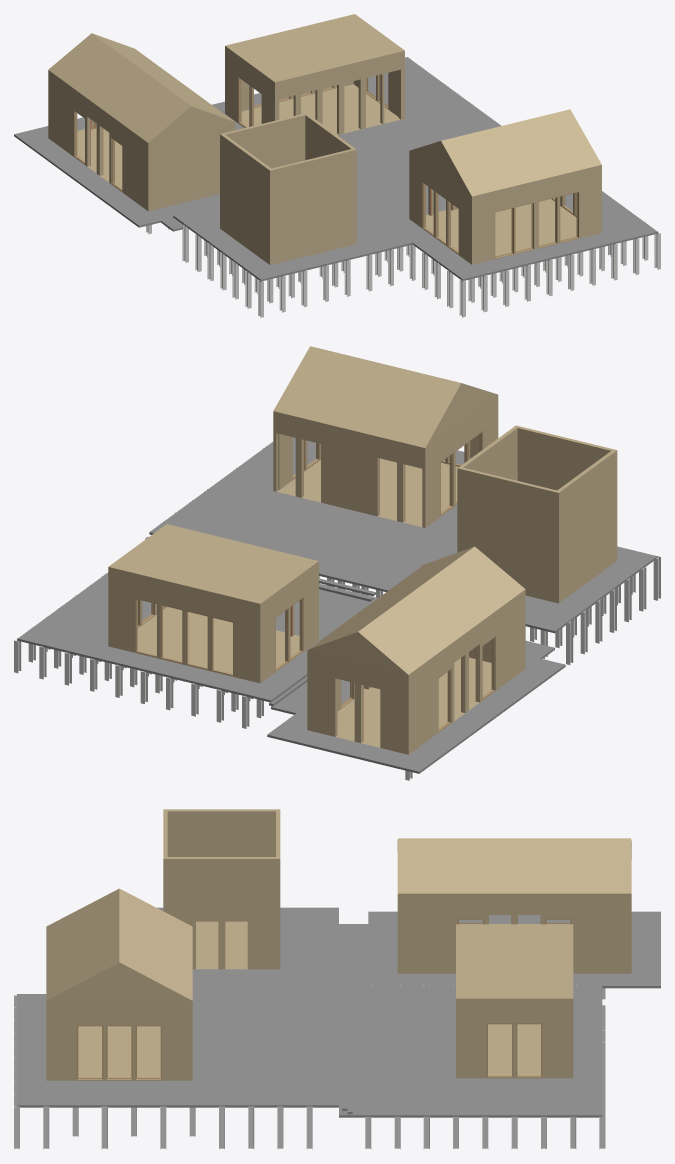
File: interact.gltf
The picture shows the model from 3 angles, top to bottom: view 1: azimuth 30°, elevation 25°; view 2: azimuth 150°, elevation 25°; view 3: azimuth 270°, elevation 25°; orthographic projection. The views are drawn at different scales.
Visible parts, largest first — view 1: 3qwk77jlnEz86n_hX5H_ox, 2s8Fd6XanDvwh4Rl_0_OSB, 2f_Z9ficX3VBgwA$_8iC42, 2O0bPQMxT4nf_9ubBxmI31, 3qwk77jlnEz86n_hX5H_ZU, 0xH5ZWSSD7mgM7qcIkNfEA, 3qwk77jlnEz86n_hX5H_L6, 2O0bPQMxT4nf_9ubBxmI70, 3qwk77jlnEz86n_hX5H_M$, 2O0bPQMxT4nf_9ubBxmI4f, 3qwk77jlnEz86n_hX5H$qK, 2O0bPQMxT4nf_9ubBxmIE3 (+9 smaller); view 2: 3qwk77jlnEz86n_hX5H_ox, 2s8Fd6XanDvwh4Rl_0_OSB, 2f_Z9ficX3VBgwA$_8iC42, 3qwk77jlnEz86n_hX5H_ZU, 2O0bPQMxT4nf_9ubBxmI1I, 0xH5ZWSSD7mgM7qcIkNfEA, 2O0bPQMxT4nf_9ubBxmI5w, 3qwk77jlnEz86n_hX5H$qK, 2O0bPQMxT4nf_9ubBxmIC6, 3qwk77jlnEz86n_hX5H_M$, 2O0bPQMxT4nf_9ubBxmI4f, 3qwk77jlnEz86n_hX5H_IM (+8 smaller); view 3: 3qwk77jlnEz86n_hX5H_ox, 3qwk77jlnEz86n_hX5H_ZU, 2f_Z9ficX3VBgwA$_8iC42, 2s8Fd6XanDvwh4Rl_0_OSB, 3qwk77jlnEz86n_hX5H_K8, 3qwk77jlnEz86n_hX5H$qK, 0xH5ZWSSD7mgM7qcIkNfEA, 2O0bPQMxT4nf_9ubBxmI2P, 2O0bPQMxT4nf_9ubBxmI67, 2O0bPQMxT4nf_9ubBxmIDx, 2O0bPQMxT4nf_9ubBxmI4f, 3qwk77jlnEz86n_hX5H_0v (+5 smaller).
Boxes of the visible parts, left/top/right/bottom form: 3qwk77jlnEz86n_hX5H_ox: left=173, top=158, right=657, bottom=281; 2s8Fd6XanDvwh4Rl_0_OSB: left=48, top=33, right=234, bottom=145; 2f_Z9ficX3VBgwA$_8iC42: left=409, top=109, right=601, bottom=198; 2O0bPQMxT4nf_9ubBxmI31: left=268, top=149, right=353, bottom=265; 3qwk77jlnEz86n_hX5H_ZU: left=212, top=57, right=501, bottom=169; 0xH5ZWSSD7mgM7qcIkNfEA: left=225, top=14, right=404, bottom=83; 3qwk77jlnEz86n_hX5H_L6: left=146, top=125, right=231, bottom=211; 2O0bPQMxT4nf_9ubBxmI70: left=470, top=168, right=598, bottom=264; 3qwk77jlnEz86n_hX5H_M$: left=50, top=73, right=146, bottom=209; 2O0bPQMxT4nf_9ubBxmI4f: left=222, top=135, right=270, bottom=263; 3qwk77jlnEz86n_hX5H$qK: left=14, top=117, right=219, bottom=231; 2O0bPQMxT4nf_9ubBxmIE3: left=273, top=53, right=401, bottom=134; 3qwk77jlnEz86n_hX5H_ox: left=149, top=437, right=657, bottom=633; 2s8Fd6XanDvwh4Rl_0_OSB: left=307, top=546, right=525, bottom=677; 2f_Z9ficX3VBgwA$_8iC42: left=273, top=346, right=498, bottom=450; 3qwk77jlnEz86n_hX5H_ZU: left=17, top=572, right=377, bottom=702; 2O0bPQMxT4nf_9ubBxmI1I: left=457, top=466, right=560, bottom=603; 0xH5ZWSSD7mgM7qcIkNfEA: left=108, top=524, right=318, bottom=605; 2O0bPQMxT4nf_9ubBxmI5w: left=273, top=413, right=427, bottom=527; 3qwk77jlnEz86n_hX5H$qK: left=267, top=640, right=565, bottom=773; 2O0bPQMxT4nf_9ubBxmIC6: left=108, top=569, right=262, bottom=683; 3qwk77jlnEz86n_hX5H_M$: left=410, top=594, right=523, bottom=752; 2O0bPQMxT4nf_9ubBxmI4f: left=557, top=451, right=615, bottom=601; 3qwk77jlnEz86n_hX5H_IM: left=307, top=653, right=410, bottom=754; 3qwk77jlnEz86n_hX5H_ox: left=17, top=907, right=338, bottom=1107; 3qwk77jlnEz86n_hX5H_ZU: left=339, top=991, right=602, bottom=1117; 2f_Z9ficX3VBgwA$_8iC42: left=46, top=888, right=192, bottom=1003; 2s8Fd6XanDvwh4Rl_0_OSB: left=397, top=838, right=631, bottom=896; 3qwk77jlnEz86n_hX5H_K8: left=397, top=896, right=627, bottom=973; 3qwk77jlnEz86n_hX5H$qK: left=339, top=911, right=660, bottom=991; 0xH5ZWSSD7mgM7qcIkNfEA: left=456, top=924, right=573, bottom=1000; 2O0bPQMxT4nf_9ubBxmI2P: left=163, top=857, right=275, bottom=969; 2O0bPQMxT4nf_9ubBxmI67: left=46, top=1003, right=188, bottom=1080; 2O0bPQMxT4nf_9ubBxmIDx: left=456, top=1001, right=568, bottom=1078; 2O0bPQMxT4nf_9ubBxmI4f: left=167, top=809, right=275, bottom=921; 3qwk77jlnEz86n_hX5H_0v: left=78, top=1026, right=160, bottom=1077.
Size of what is drawn, in the model's own units: 20.5 by 7.3 by 26.52.
